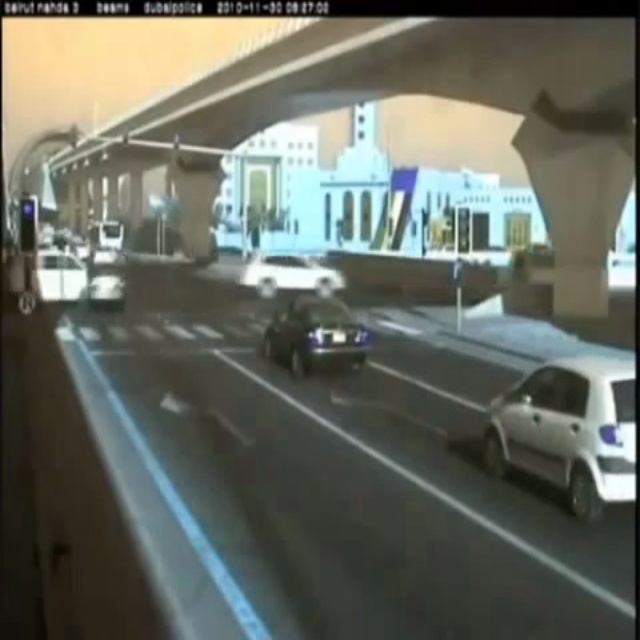acc: (5, 244, 128, 322)
